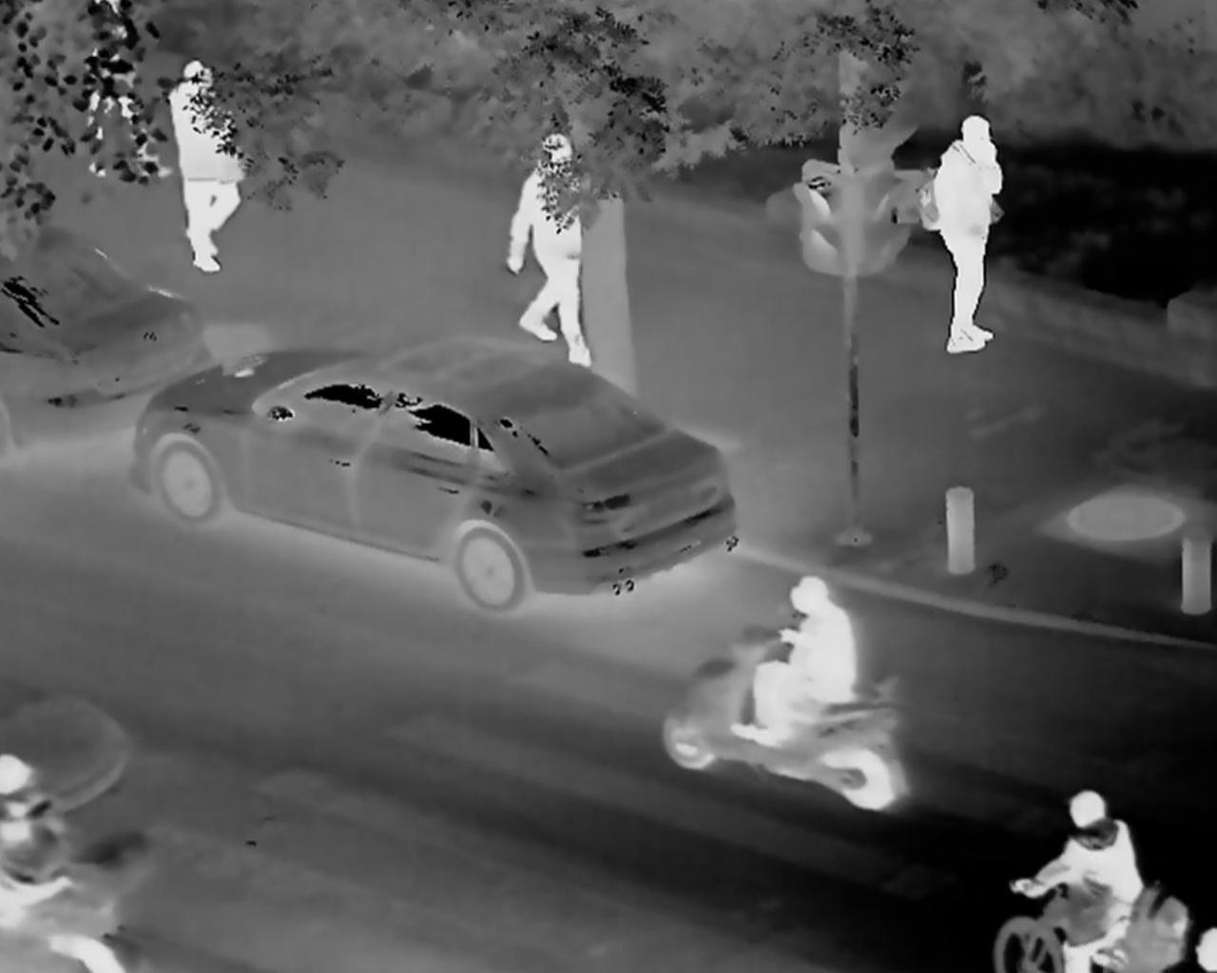person: (1005, 792, 1146, 973), (505, 126, 597, 363), (752, 575, 853, 789), (164, 59, 236, 277), (930, 119, 997, 353)
